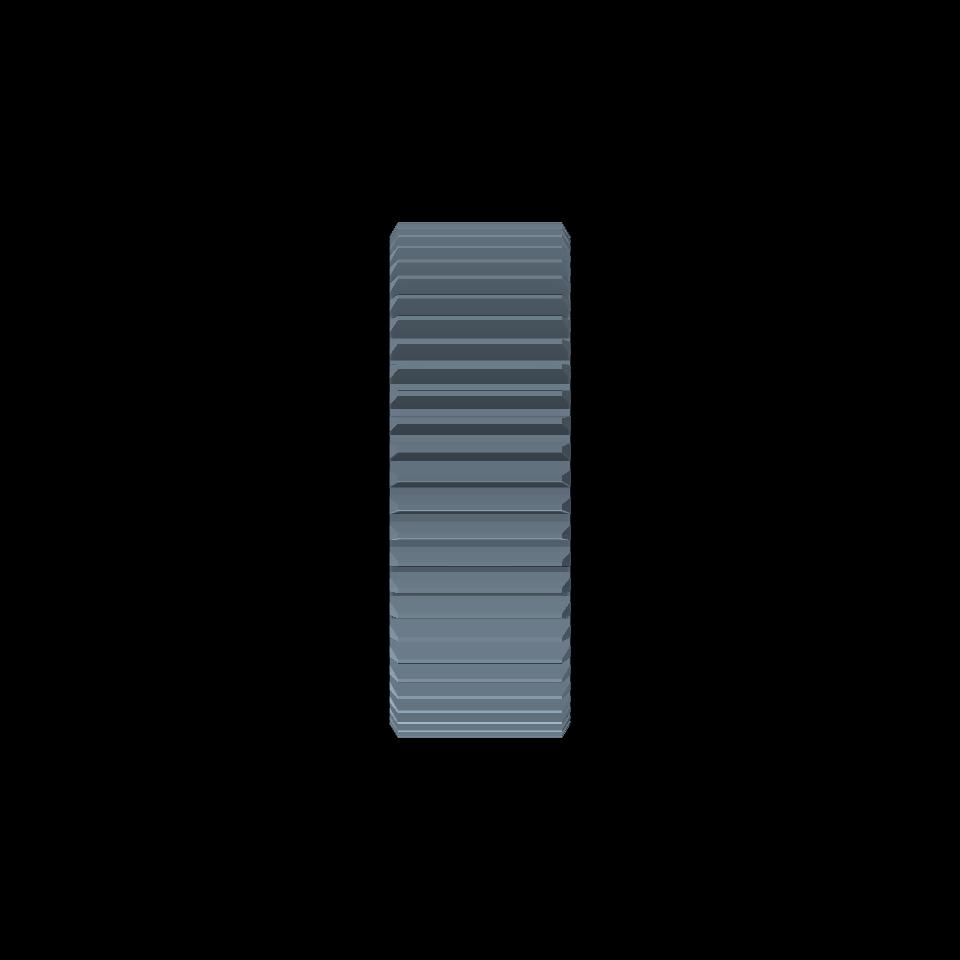Straight: (398, 220, 563, 737)
